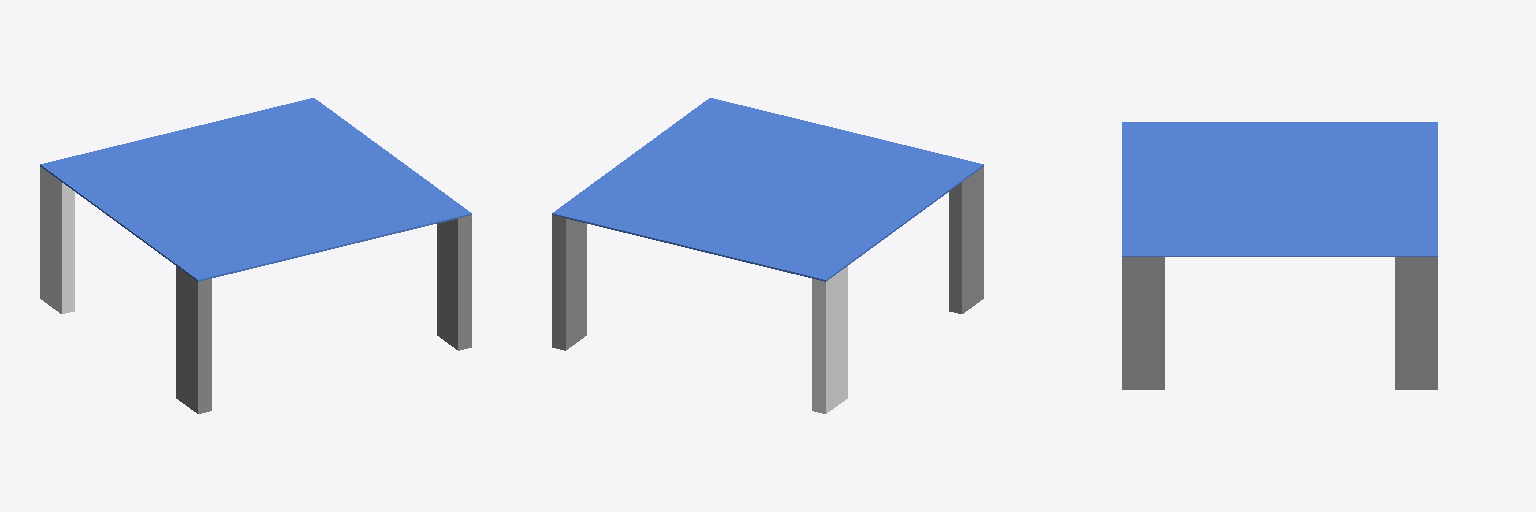
Rendered from desk.obj.
3 renders of one model, left to right at view 1: azimuth 30°, elevation 25°; view 2: azimuth 150°, elevation 25°; view 3: azimuth 270°, elevation 25°, orthographic.
Parts seen in each view (by area): view 1: Mesh5 Group1 Model, Mesh3 Group4 Group1 Model, Mesh4 Group5 Group1 Model, Mesh2 Group3 Group1 Model; view 2: Mesh5 Group1 Model, Mesh4 Group5 Group1 Model, Mesh3 Group4 Group1 Model, Mesh1 Group2 Group1 Model; view 3: Mesh5 Group1 Model, Mesh1 Group2 Group1 Model, Mesh2 Group3 Group1 Model.
Part boxes in pixels (x1,y1,x2,y2): Mesh5 Group1 Model: (40, 98, 471, 281); Mesh3 Group4 Group1 Model: (176, 266, 211, 413); Mesh4 Group5 Group1 Model: (40, 167, 74, 313); Mesh2 Group3 Group1 Model: (437, 215, 471, 350); Mesh5 Group1 Model: (552, 98, 983, 281); Mesh4 Group5 Group1 Model: (812, 266, 847, 413); Mesh3 Group4 Group1 Model: (949, 167, 983, 313); Mesh1 Group2 Group1 Model: (552, 215, 586, 350); Mesh5 Group1 Model: (1122, 122, 1437, 256); Mesh1 Group2 Group1 Model: (1395, 257, 1437, 389); Mesh2 Group3 Group1 Model: (1122, 257, 1164, 389).
Bounding box in the file's own units: 1600 × 750 × 1600.